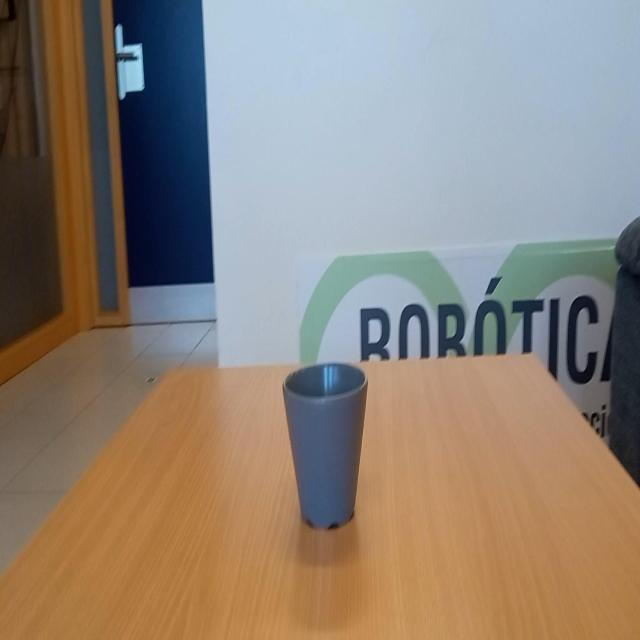cup: (282, 362, 372, 536)
